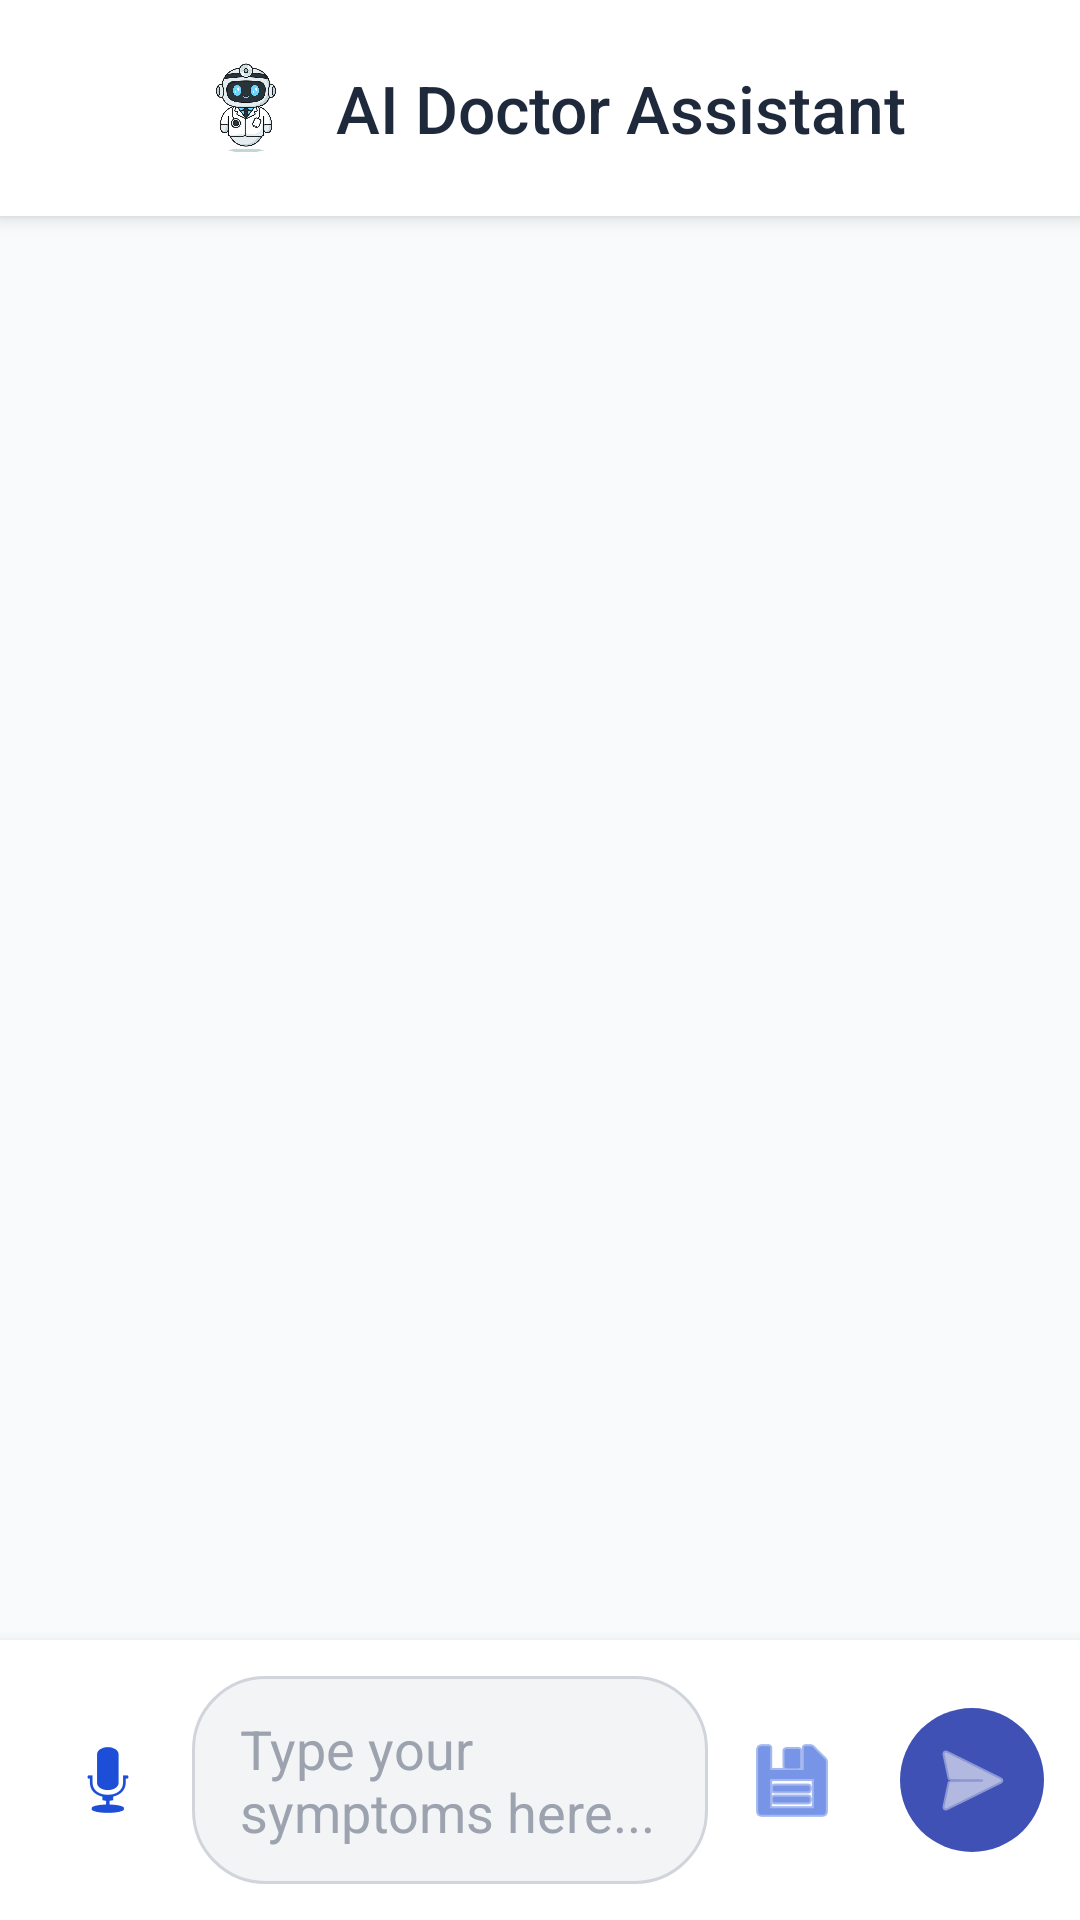

Where to tap for icons on this 1080 x 1920 app screen, as (x,y):
robot doctor: (246,107)
save: (792,1780)
send: (972,1780)
speak now: (108,1780)
